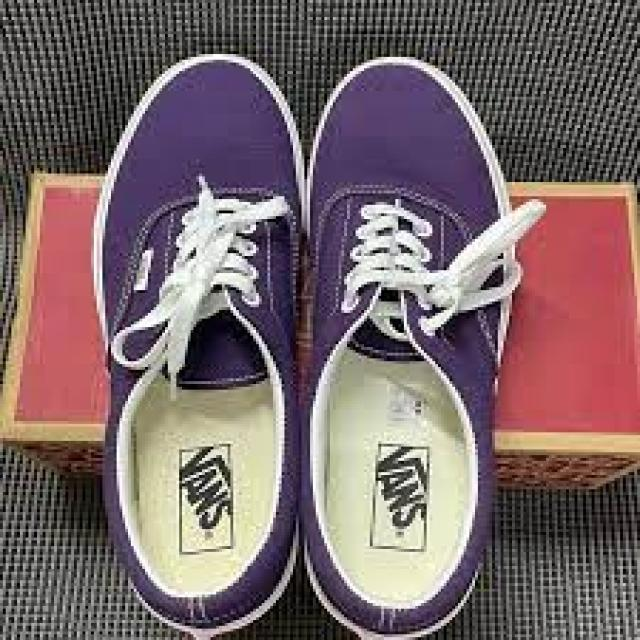shoe: (88, 50, 512, 638)
